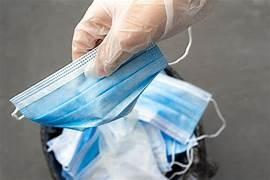Glove: (72, 0, 213, 75)
Mask: (10, 45, 166, 129), (133, 74, 225, 178), (74, 115, 165, 179), (134, 74, 210, 143), (143, 123, 187, 173), (62, 128, 99, 178), (47, 129, 81, 167), (161, 132, 197, 162)
